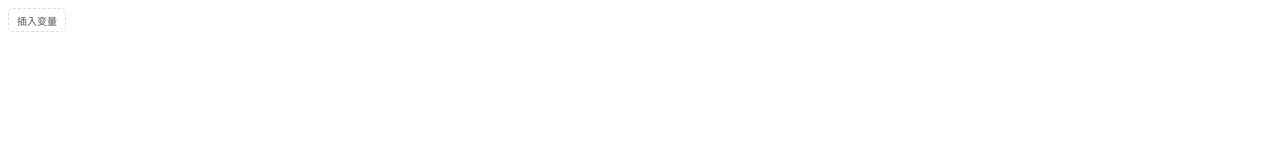
Test: 变量选择器（R4-6、FR-P3） › 只列拓扑上游节点的输出字段
Click the button "插入变量".
click(37, 20)  # box [8,8,66,32]
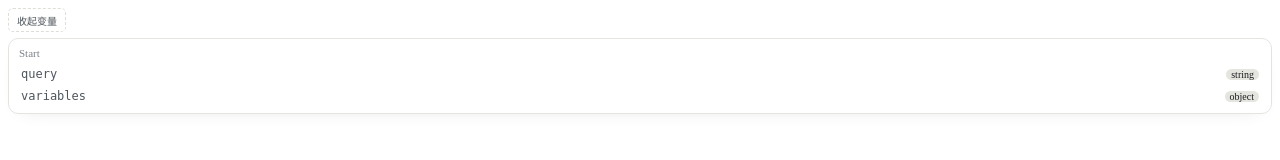
Result: the text "query" is shown at [21,67,57,81]
Result: the text "Start" is shown at [19,47,40,59]
